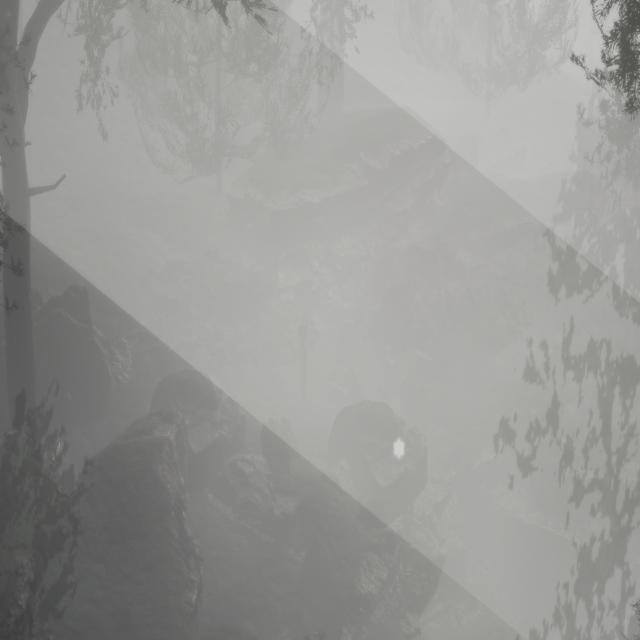Human: (287, 308, 316, 431)
